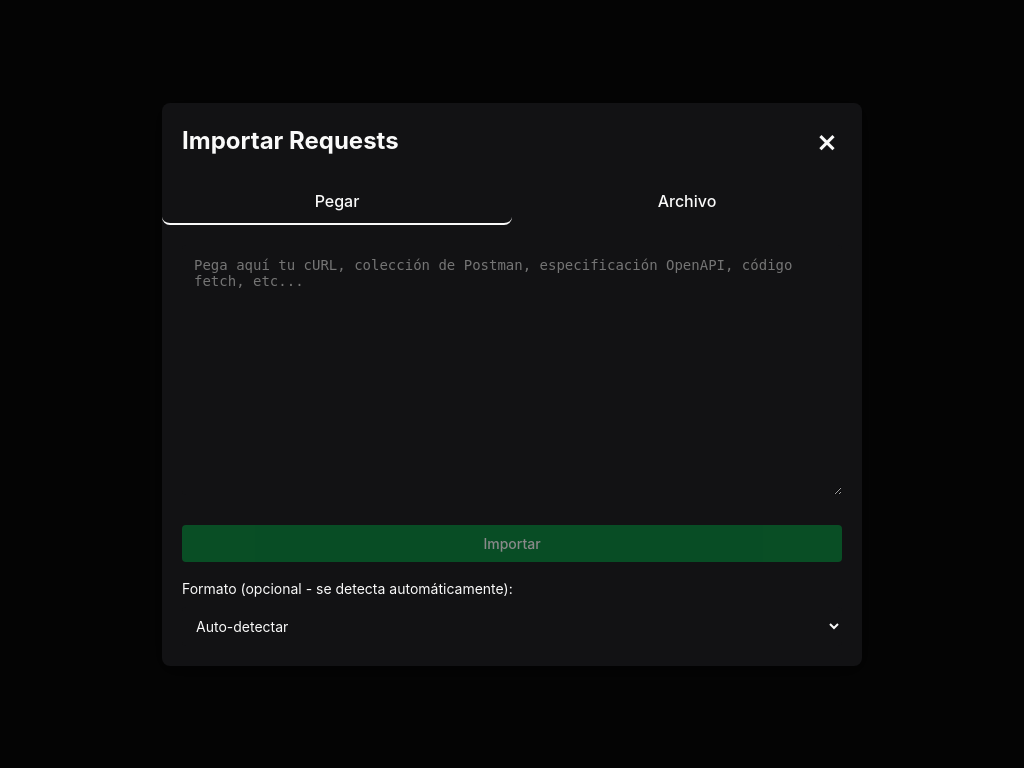
Test: ImportModal Final Unified Integration › covers error paths and warnings
# Populate warnings via import
Replace the text in the text box with class "importModal__textarea" with "data" at (512, 370), box [182,244,842,494]
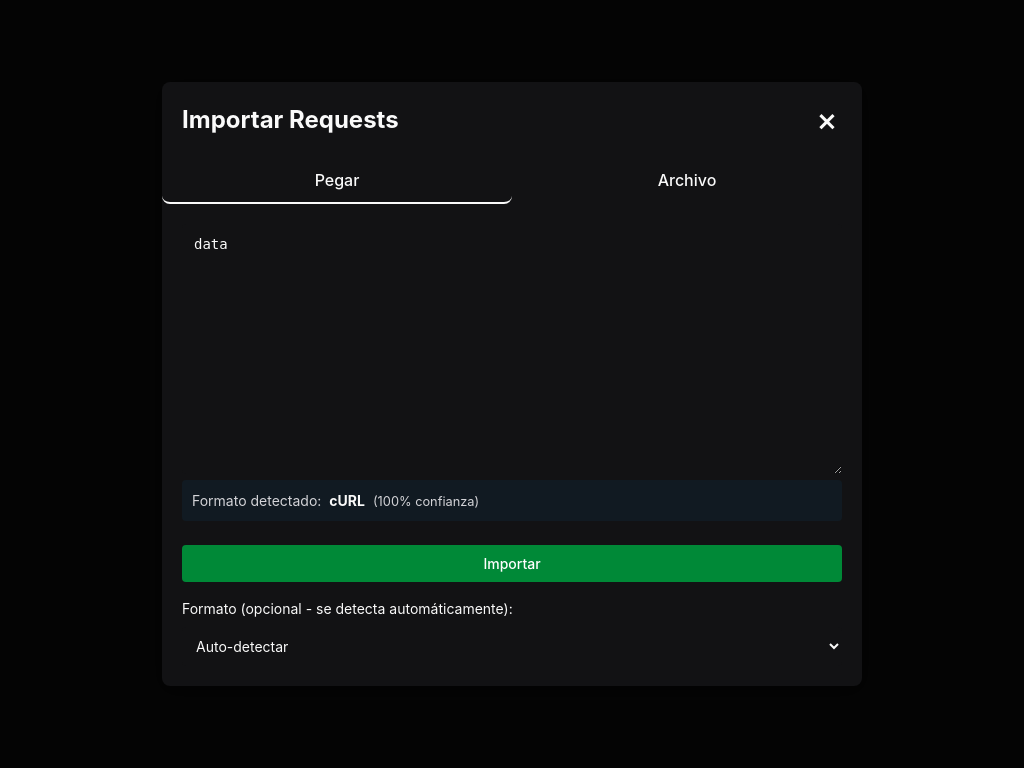
Click the button with class "importModal__button--primary" at (512, 564), box [182,545,842,582]
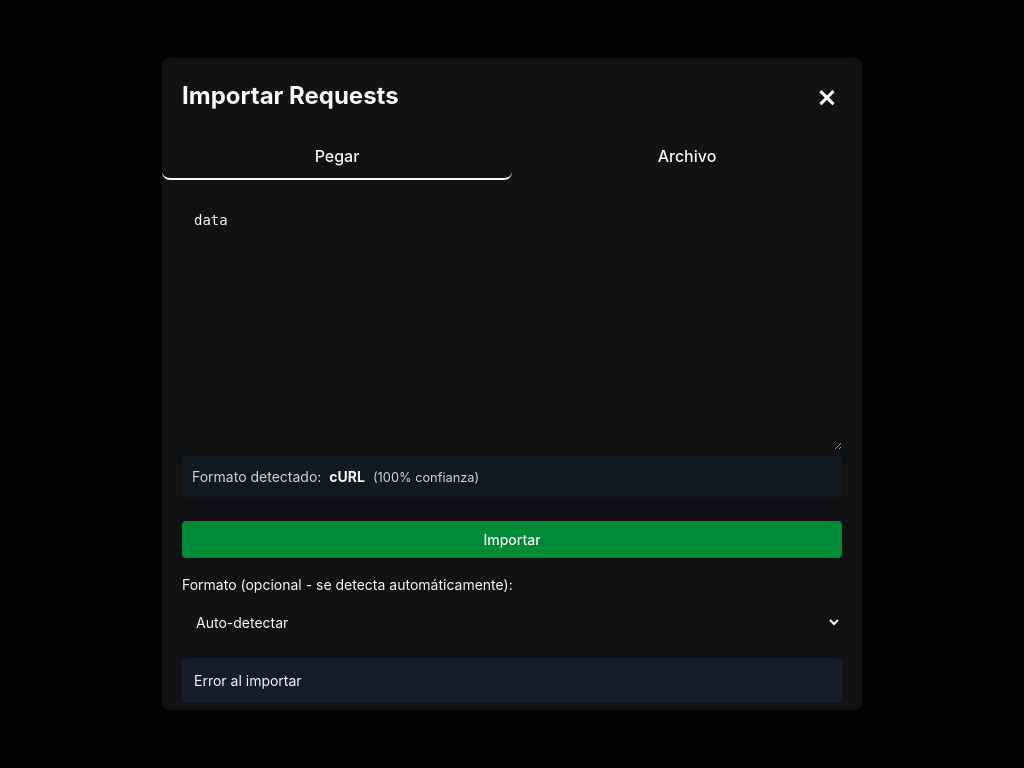
Click the button with class "importModal__button--primary" at (512, 539), box [182,521,842,558]
(page scrolled)
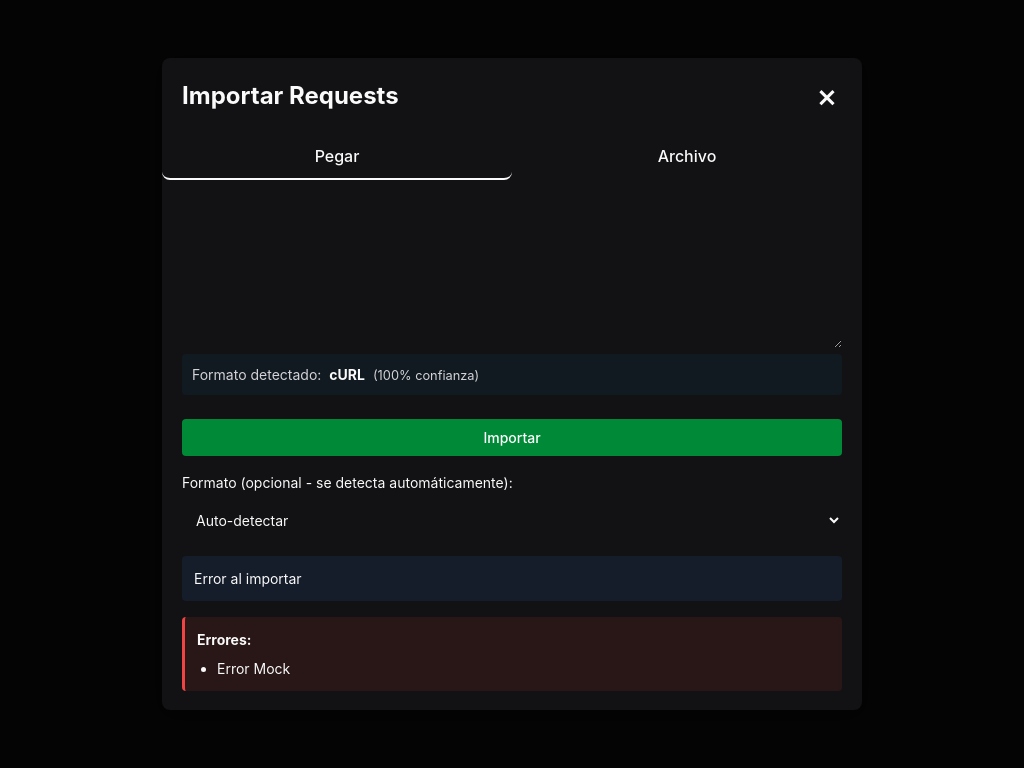
Now the element with class "importModal__errors" shows "Error Mock", box [217,660,290,677]
